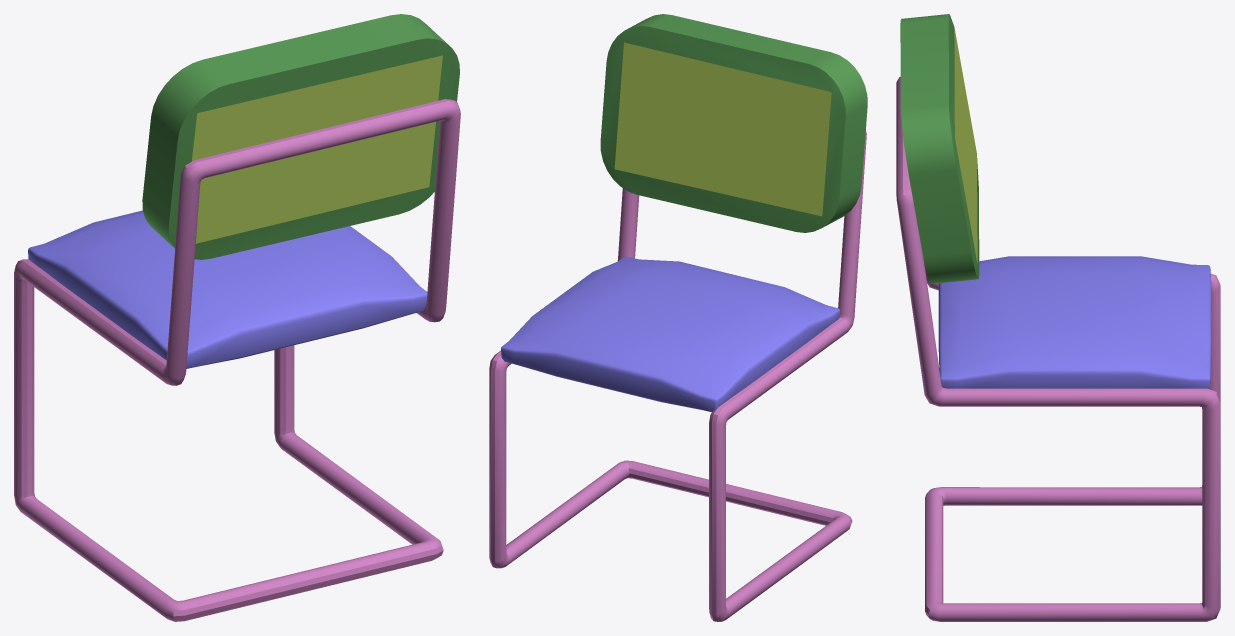
File: PK_Chair.fbx
3 renders of one model, left to right at view 1: azimuth 30°, elevation 25°; view 2: azimuth 150°, elevation 25°; view 3: azimuth 270°, elevation 25°, orthographic. The views are drawn at different scales.
Parts seen in each view (by area): view 1: Box001; view 2: Box001; view 3: Box001.
Boxes of the visible parts, x1,y1,x2,y2 form: Box001: (14, 14, 460, 621); Box001: (489, 14, 867, 621); Box001: (896, 14, 1220, 621).
Bounding box in the file's own units: 53.73 × 99.28 × 58.1.
